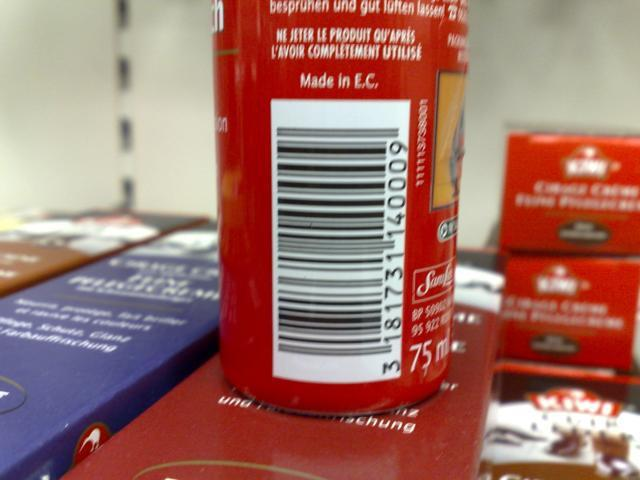Barcode: (271, 100, 408, 386)
